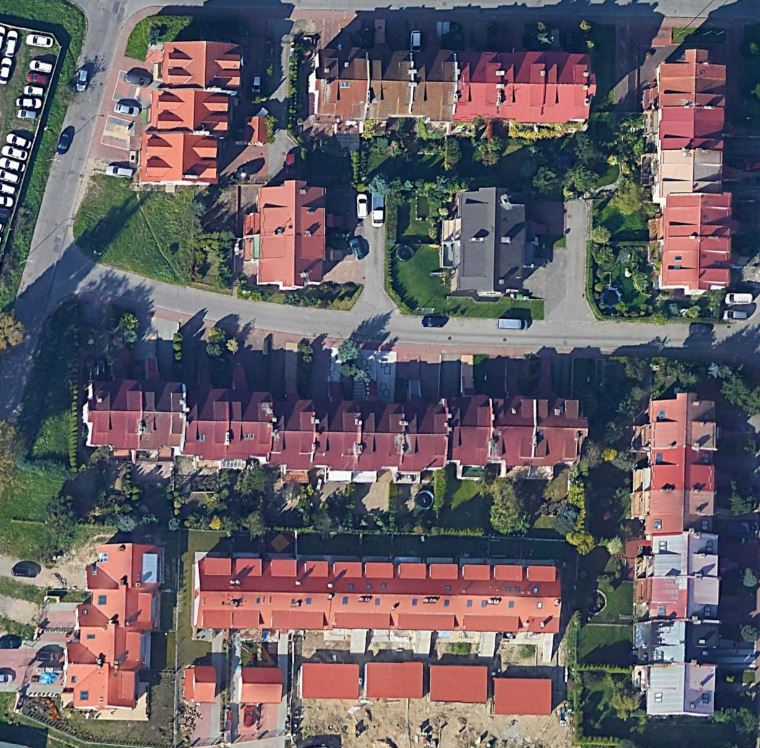garage: (485, 669, 558, 720), (425, 660, 494, 705), (295, 661, 363, 705), (363, 654, 427, 699), (238, 659, 288, 707), (180, 663, 217, 710)
terrace house: (76, 378, 595, 506), (181, 539, 586, 644), (628, 377, 740, 722), (295, 38, 597, 138), (639, 34, 750, 304), (46, 533, 180, 719), (128, 30, 252, 195), (425, 181, 541, 304), (234, 166, 339, 299)
